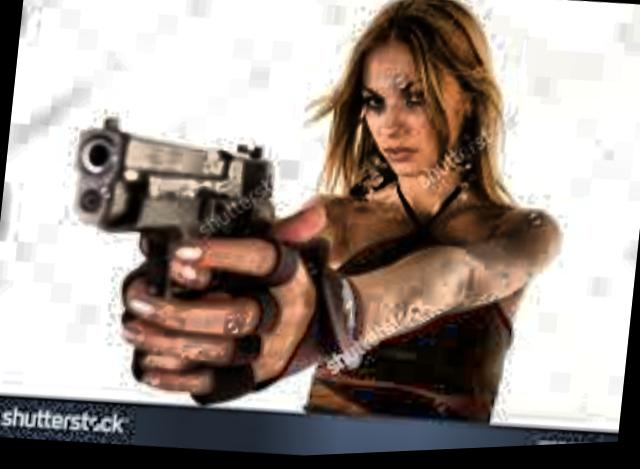pistol: (54, 100, 288, 379)
